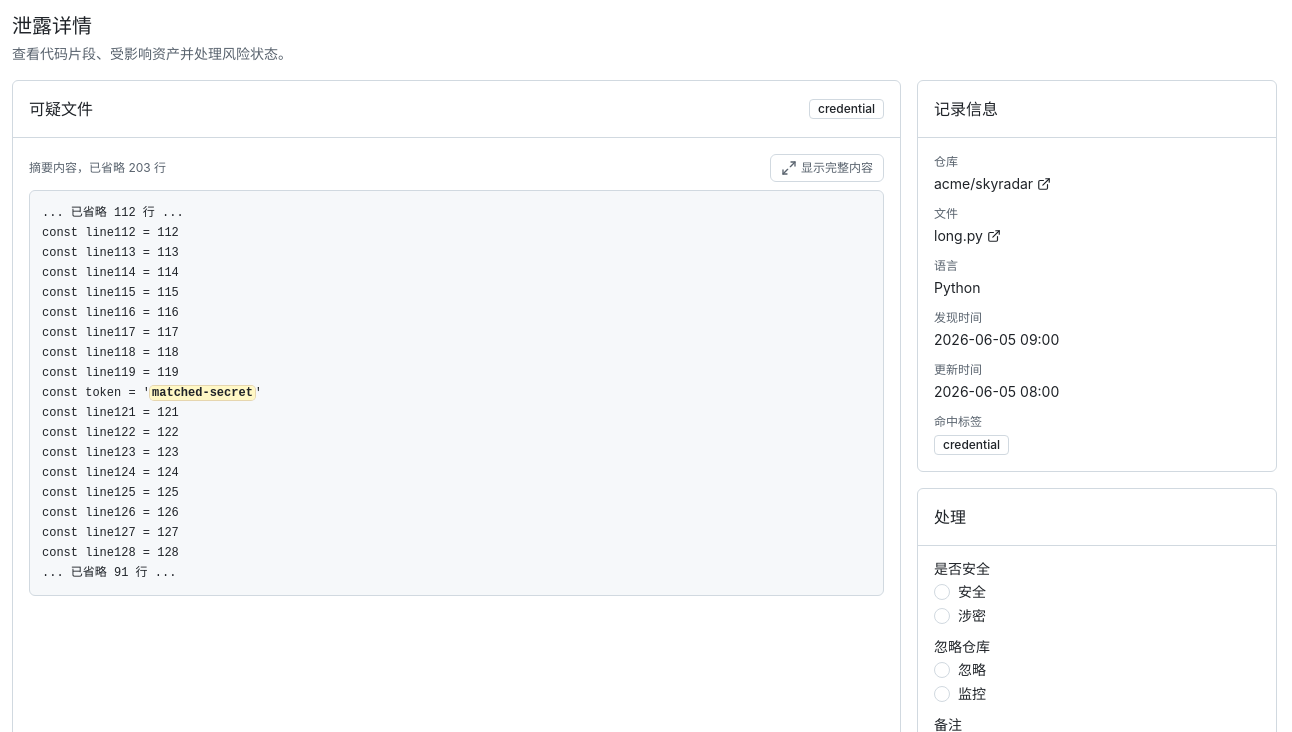
Test case: LeakageDetailPage › summarizes long code by default and expands on demand
Expected: the text "摘要内容，已省略 203 行" is shown, [29, 160, 166, 176]
Click the button "显示完整内容" at (827, 168), box [770, 154, 884, 182]
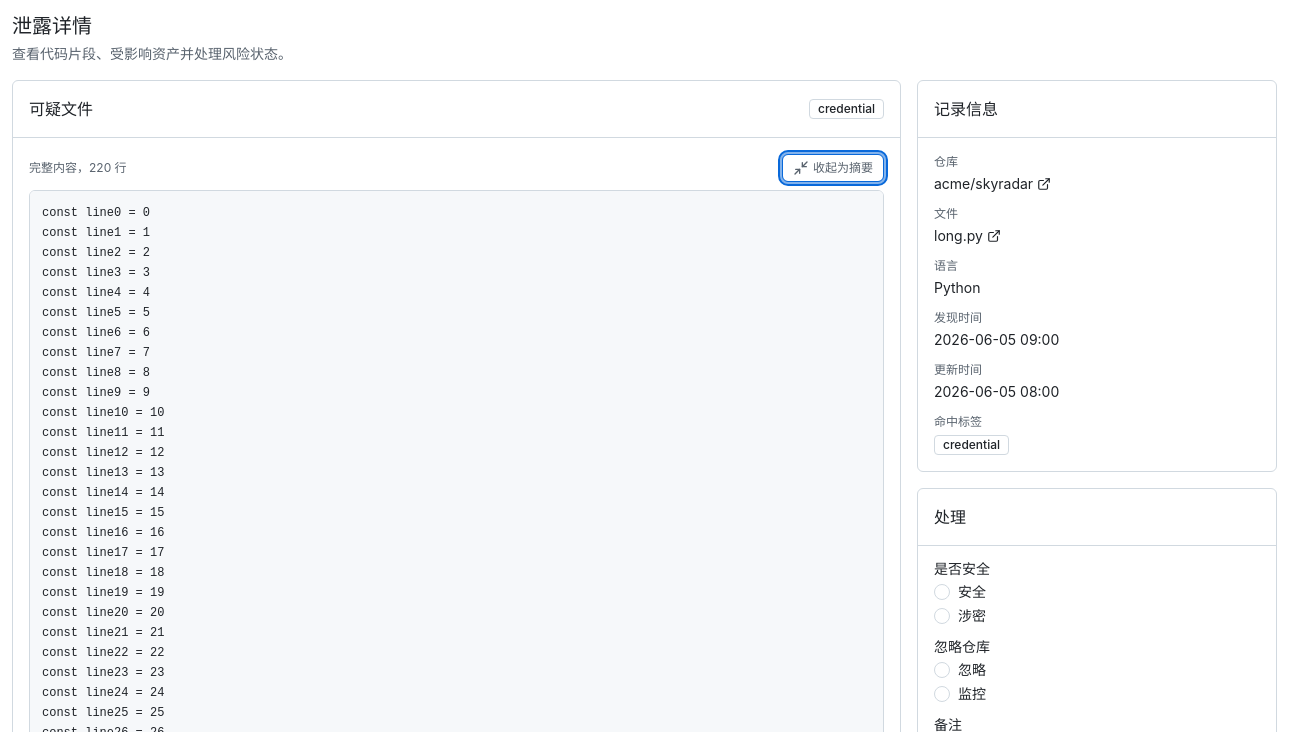
Now the text "完整内容，220 行" is shown, box [29, 160, 127, 176]
Now the button "收起为摘要" is shown, box [782, 154, 884, 182]
